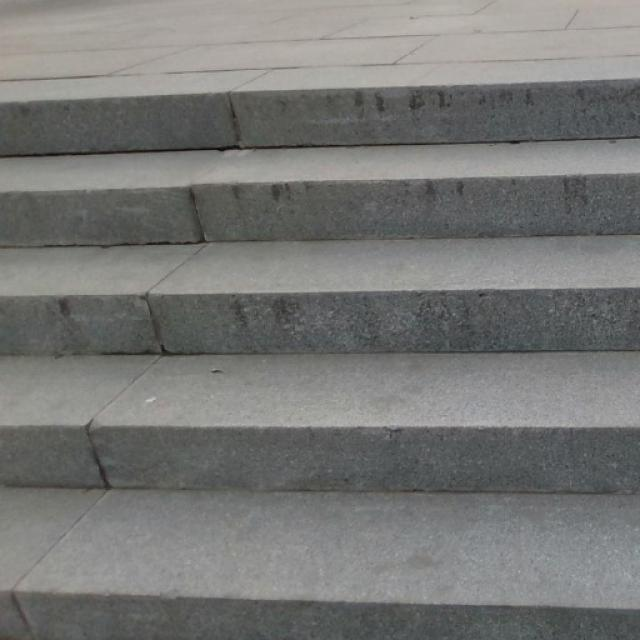Stairs: (0, 76, 639, 639)
